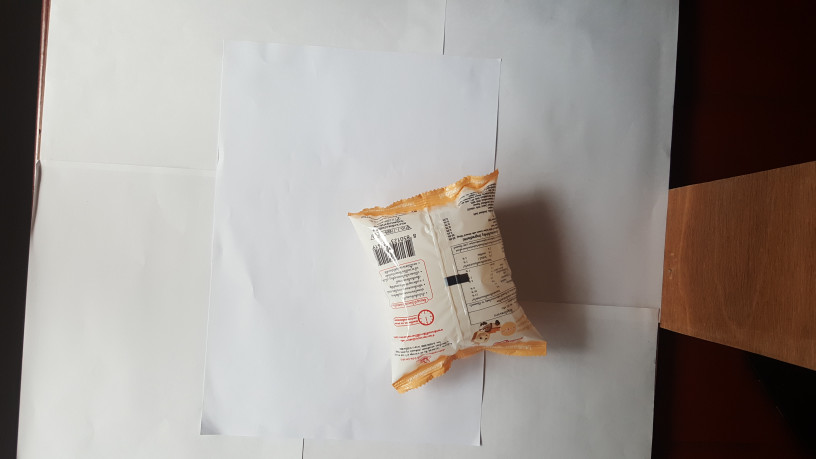farmhouse-sweetsandwich-almond: (345, 169, 550, 400)
